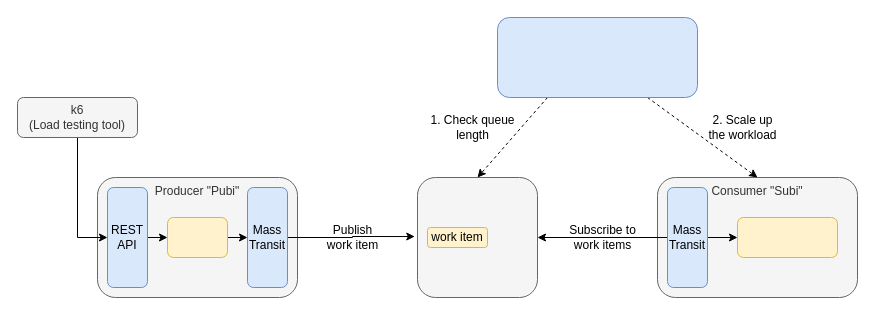
Image size: 875x315. Some labels were removed from this diagram. The shapes that lost their labels are listed below. From the top down, each one's box as (x1, y1, x2, y2) in pixels, then its label:
(496, 16, 698, 98): KEDA (Event-based autoscaler)
(166, 216, 228, 258): Create work item
(416, 176, 538, 298): RabbitMQ (message queue)
(736, 216, 838, 258): Process each message for 2s
